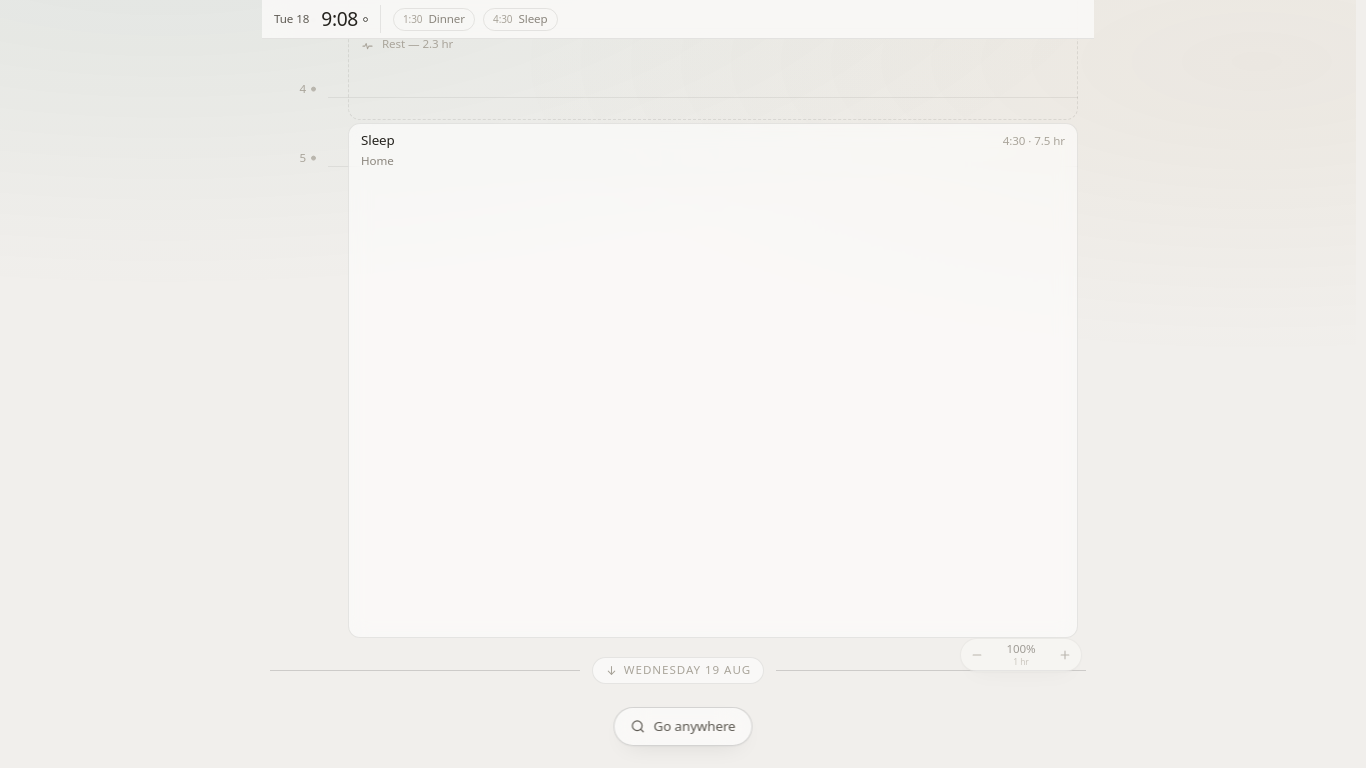
Scenario: zoom is not only a button › the readout is also the reset
The image size is (1366, 768).
(page scrolled)
Click the button named "Zoom in": (1065, 655) x1=1052 y1=642 x2=1078 y2=668
(page scrolled)
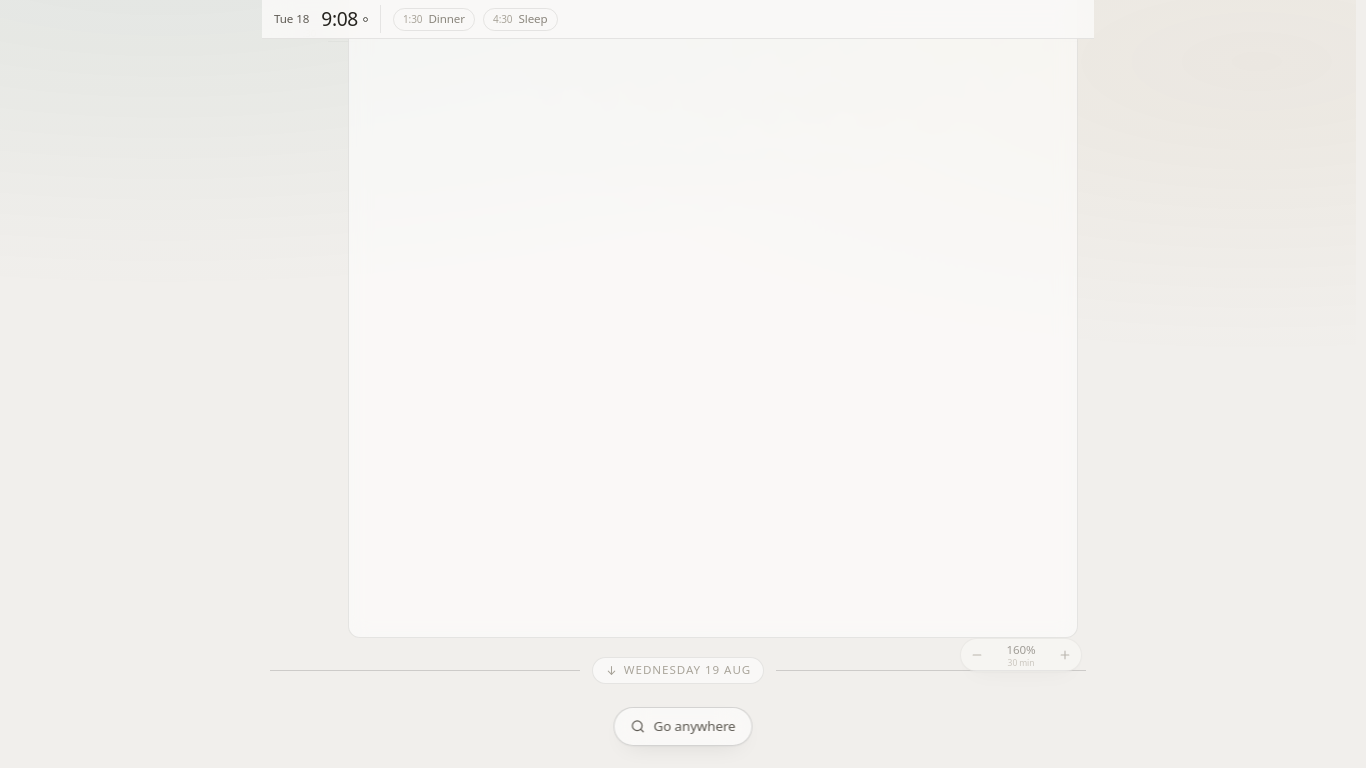
Result: the button with class "tl-zoom-l" no longer shows "100%"
Click the button with class "tl-zoom-l": (1021, 655) x1=992 y1=642 x2=1050 y2=668
(page scrolled)
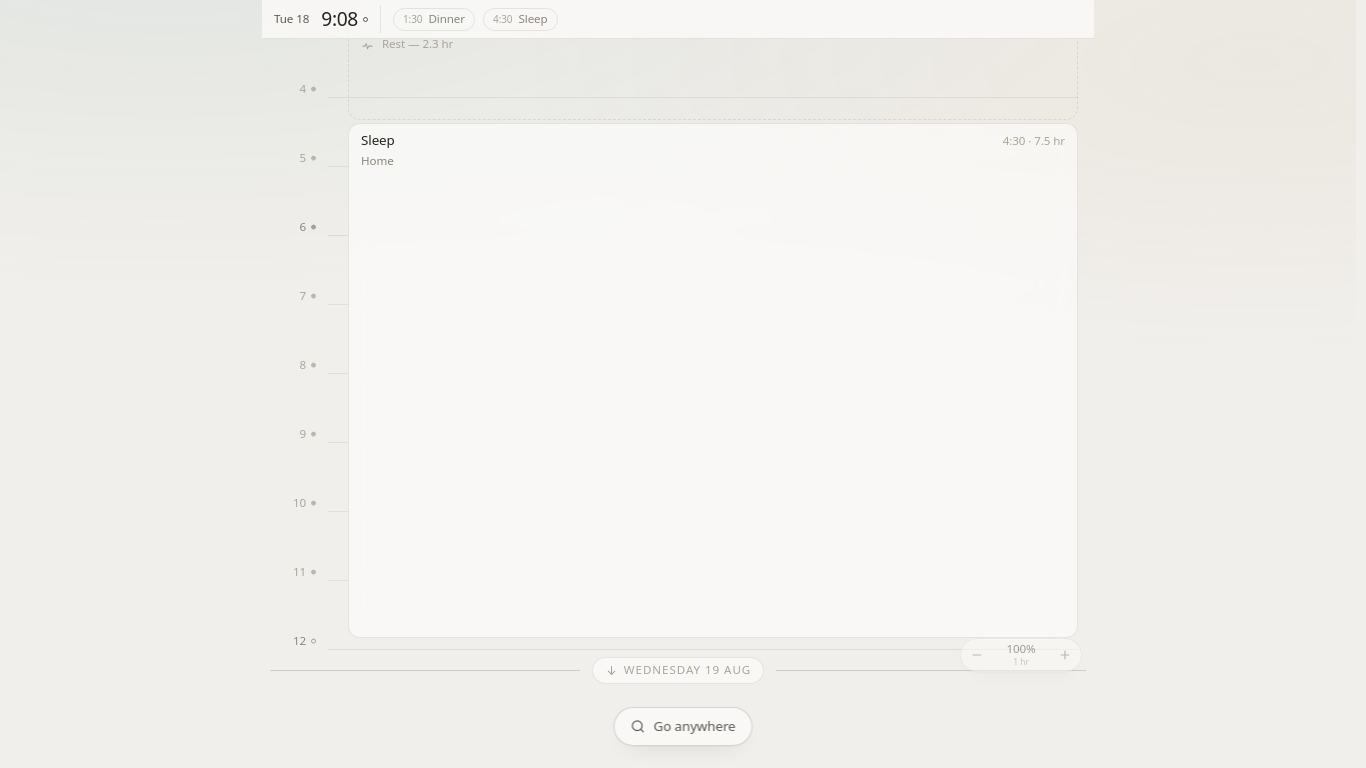
Result: the button with class "tl-zoom-l" shows "100%" at x1=992 y1=642 x2=1050 y2=668
